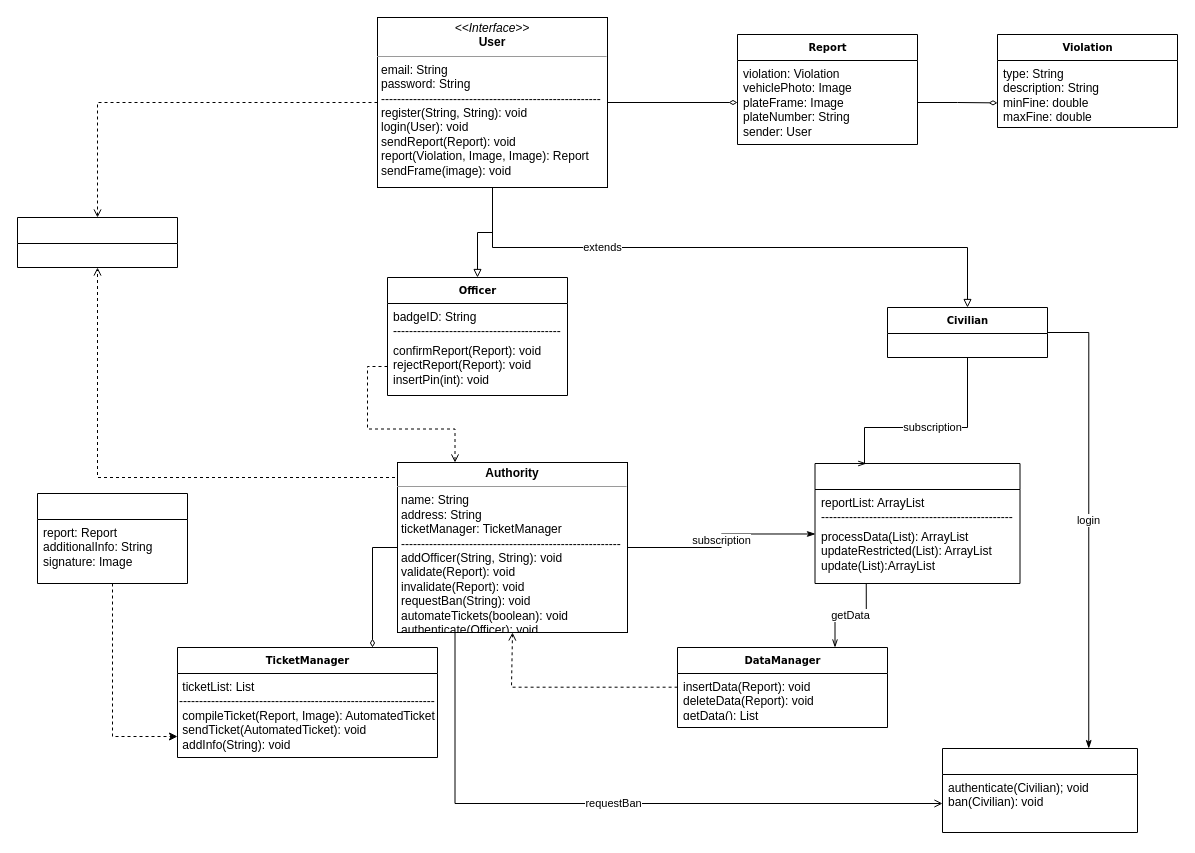
Some shapes in this 1195 by 853 pixel diagram are drawn without their labels. The box of each missing label's shape, as (x1, y1, x2, y2) in pixels:
AutomatedTicket: (36, 492, 188, 584)
CivilianAuthenticator: (942, 748, 1138, 832)
DataProvider: (814, 462, 1020, 584)
MapsAPI: (16, 216, 178, 268)
